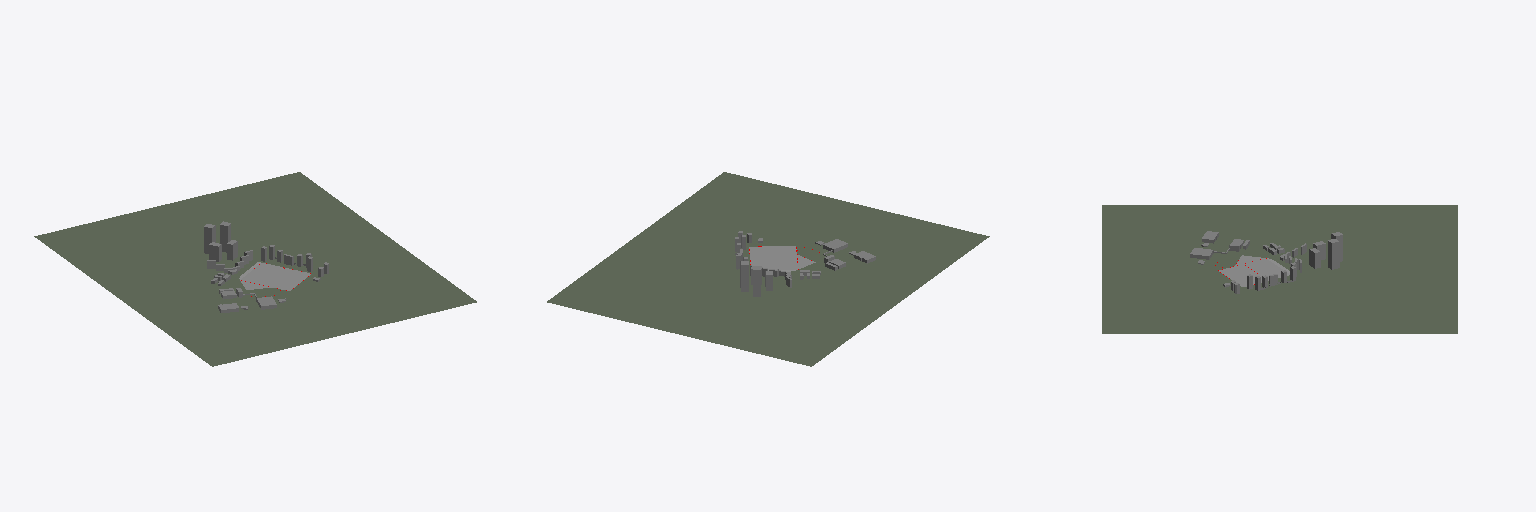
3 renders of one model, left to right at view 1: azimuth 30°, elevation 25°; view 2: azimuth 150°, elevation 25°; view 3: azimuth 270°, elevation 25°, orthographic.
Parts seen in each view (by area): view 1: Mesh11 Group11 Model; view 2: Mesh11 Group11 Model; view 3: Mesh11 Group11 Model.
Boxes of the visible parts, box(x1,y1,x2,y2) form: Mesh11 Group11 Model: box(34, 172, 476, 366); Mesh11 Group11 Model: box(547, 172, 989, 366); Mesh11 Group11 Model: box(1102, 205, 1457, 333).
Bounding box in the file's own units: 1872 × 180 × 2176.